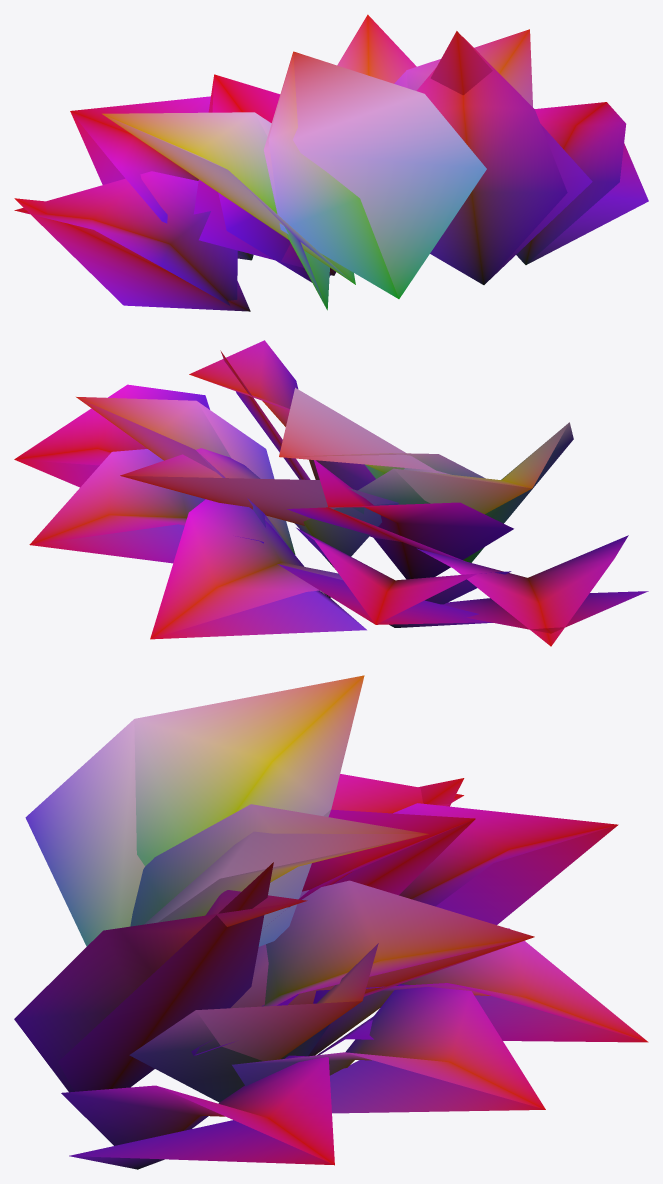
Rendered from broadfern_01_partial_a.dae.
The picture shows the model from 3 angles, top to bottom: view 1: azimuth 30°, elevation 25°; view 2: azimuth 150°, elevation 25°; view 3: azimuth 270°, elevation 25°; orthographic projection. The views are drawn at different scales.
Parts seen in each view (by area): view 1: broadfern128, broadfern8; view 2: broadfern128, broadfern8; view 3: broadfern128, broadfern8.
Part boxes in pixels (x1,y1,x2,y2): broadfern128: (14, 14, 626, 310); broadfern8: (14, 31, 648, 311); broadfern128: (14, 340, 628, 646); broadfern8: (15, 350, 648, 639); broadfern128: (14, 675, 648, 1164); broadfern8: (25, 719, 647, 1169).
Bounding box in the file's own units: 3.37 × 2.37 × 1.21.
